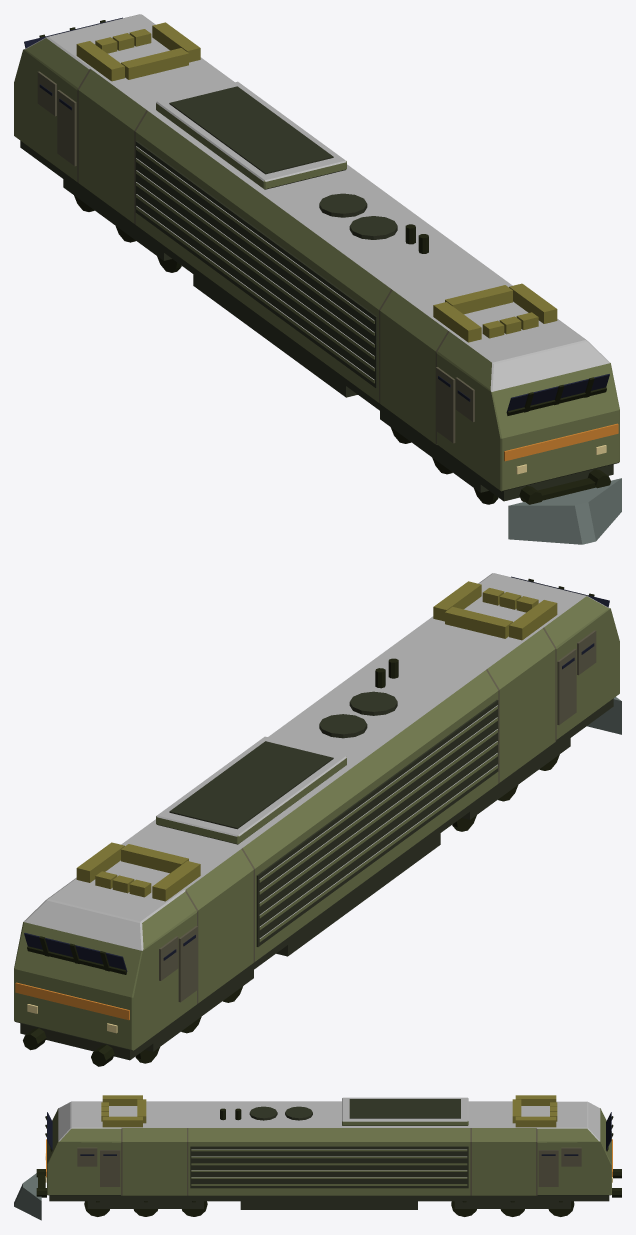
The model's file is SM_R1_Locomotora_LOD0.fbx.
3 views of the same model, one above another, from view 1: azimuth 30°, elevation 25°; view 2: azimuth 150°, elevation 25°; view 3: azimuth 270°, elevation 25° (orthographic). The views are drawn at different scales.
Visible parts, largest first — view 1: SM_R1_Locomotora_LOD0; view 2: SM_R1_Locomotora_LOD0; view 3: SM_R1_Locomotora_LOD0.
Boxes of the visible parts, box(x1,y1,x2,y2) form: SM_R1_Locomotora_LOD0: box(14, 14, 621, 544); SM_R1_Locomotora_LOD0: box(14, 573, 621, 1066); SM_R1_Locomotora_LOD0: box(14, 1095, 621, 1220).
Size of the model in its own units: 3.29 by 4.45 by 24.03.
